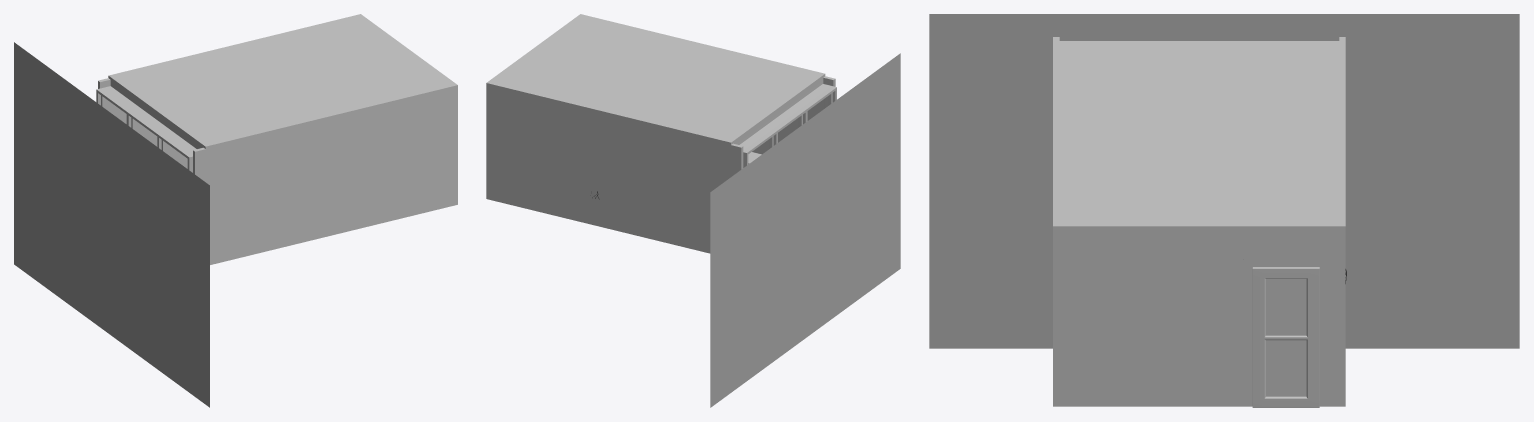
File: fabrics.fbx
3 renders of one model, left to right at view 1: azimuth 30°, elevation 25°; view 2: azimuth 150°, elevation 25°; view 3: azimuth 270°, elevation 25°, orthographic. The views are drawn at different scales.
Visible parts, largest first — view 1: room_base, pPlane1; view 2: room_base, pPlane1; view 3: pPlane1, room_base.
Part boxes in pixels (x1,y1,x2,y2): room_base: (96,14,457,264); pPlane1: (14,42,209,407); room_base: (486,14,836,253); pPlane1: (710,53,900,407); pPlane1: (929,14,1519,348); room_base: (1053,37,1345,407).
Bounding box in the file's own units: 692 × 505 × 808.
